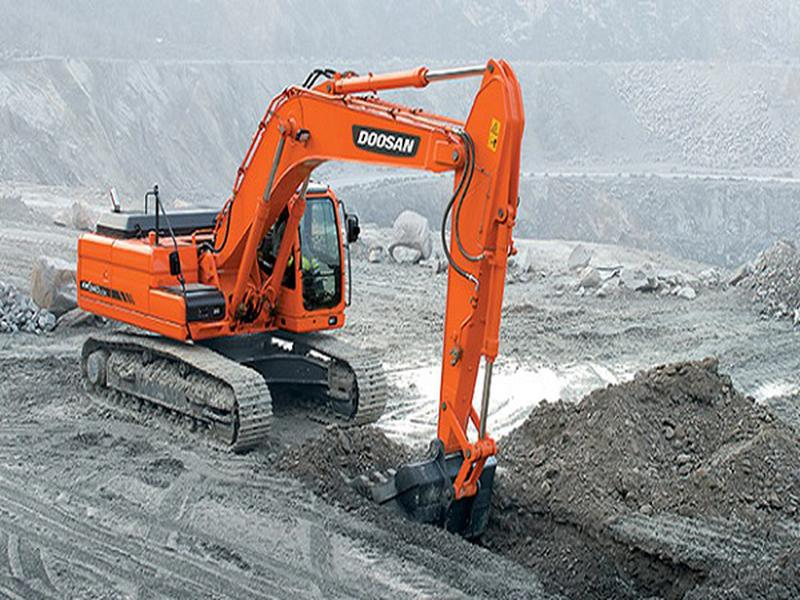shovel: (63, 56, 524, 546)
